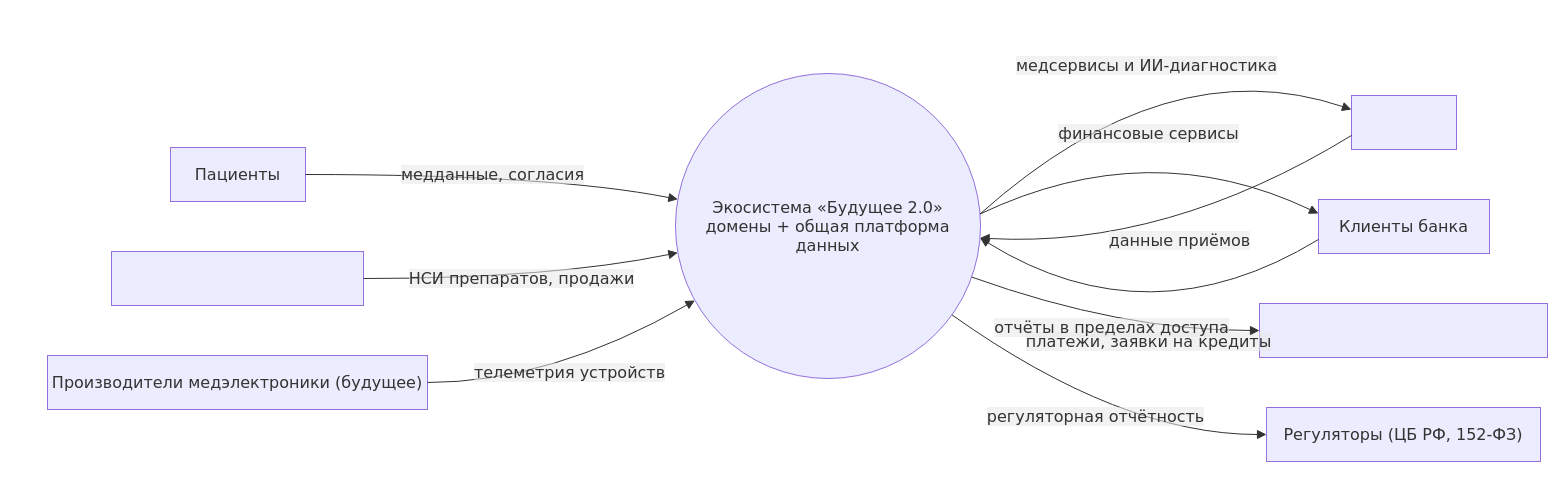
This 1565x479 diagram has some shape labels left out. Each missing label, with the box of its shape:
Бизнес-пользователи доменов: (1258, 302, 1548, 358)
Врачи: (1350, 94, 1456, 150)
Фармкомпании (будущее): (110, 250, 364, 306)
